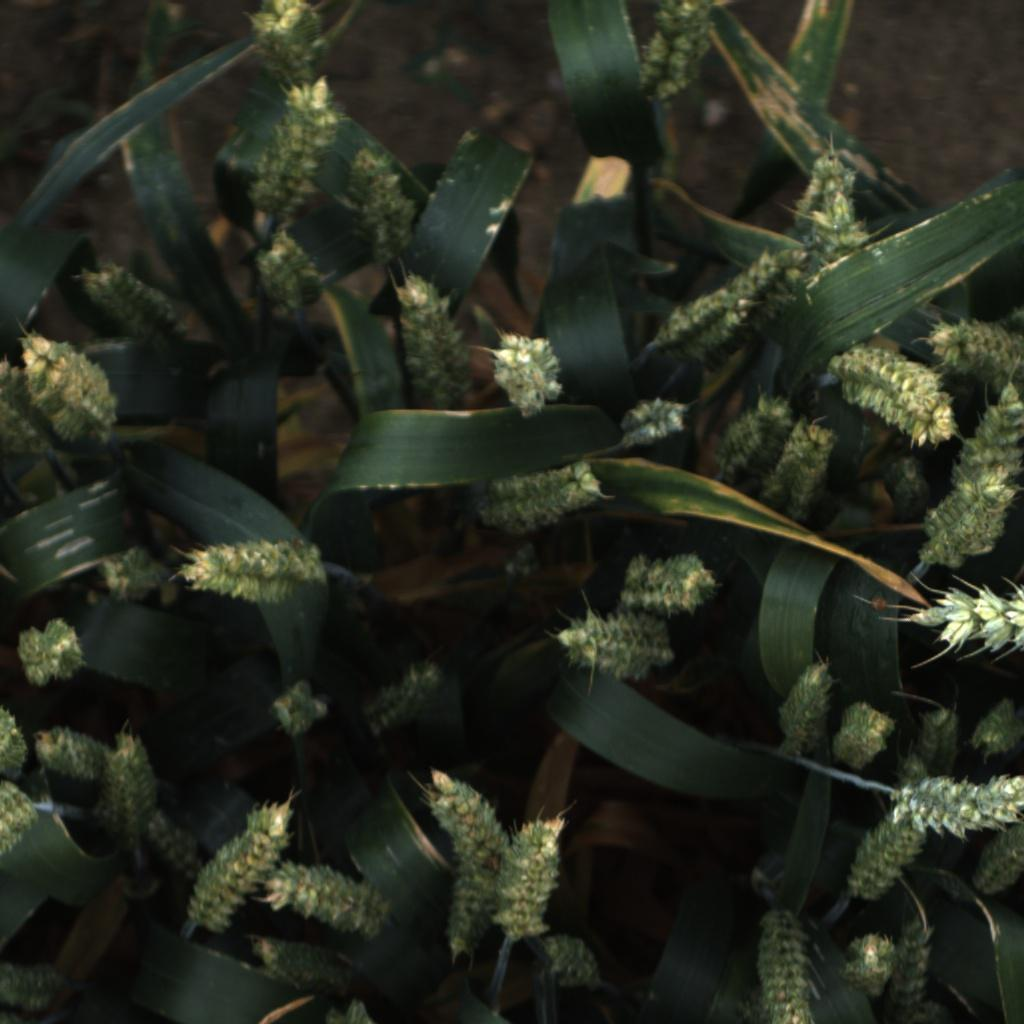0-0: (682, 245, 809, 379), (244, 76, 343, 239), (181, 794, 290, 933), (383, 270, 477, 411), (826, 347, 958, 446), (21, 327, 122, 444), (183, 534, 335, 607), (915, 472, 1023, 570), (906, 576, 1024, 661), (477, 457, 605, 535), (266, 863, 387, 945), (496, 809, 569, 942), (634, 0, 718, 114), (837, 804, 930, 905), (91, 727, 170, 845), (80, 254, 182, 345), (343, 141, 416, 268), (748, 906, 825, 1024), (757, 413, 838, 524), (555, 610, 676, 684), (893, 769, 1024, 836), (922, 310, 1024, 393), (487, 320, 569, 417), (948, 386, 1024, 490), (361, 656, 452, 741), (420, 768, 509, 853), (616, 543, 723, 612), (628, 287, 733, 351), (252, 230, 331, 315), (772, 652, 838, 753), (442, 847, 500, 961), (245, 1, 330, 73), (791, 153, 861, 240), (250, 936, 357, 992), (804, 193, 874, 278), (882, 916, 937, 1024), (15, 613, 87, 691), (27, 721, 119, 780), (0, 360, 54, 457), (745, 391, 797, 488), (97, 540, 168, 610), (828, 694, 892, 770), (874, 450, 935, 529), (133, 807, 200, 878), (266, 675, 336, 740), (541, 929, 608, 995), (969, 825, 1024, 904), (617, 394, 690, 451), (841, 930, 899, 999), (0, 954, 68, 1012), (914, 696, 963, 767), (713, 408, 763, 476), (972, 694, 1024, 756), (0, 782, 40, 859), (0, 706, 29, 781), (496, 540, 543, 581), (321, 998, 374, 1024)
